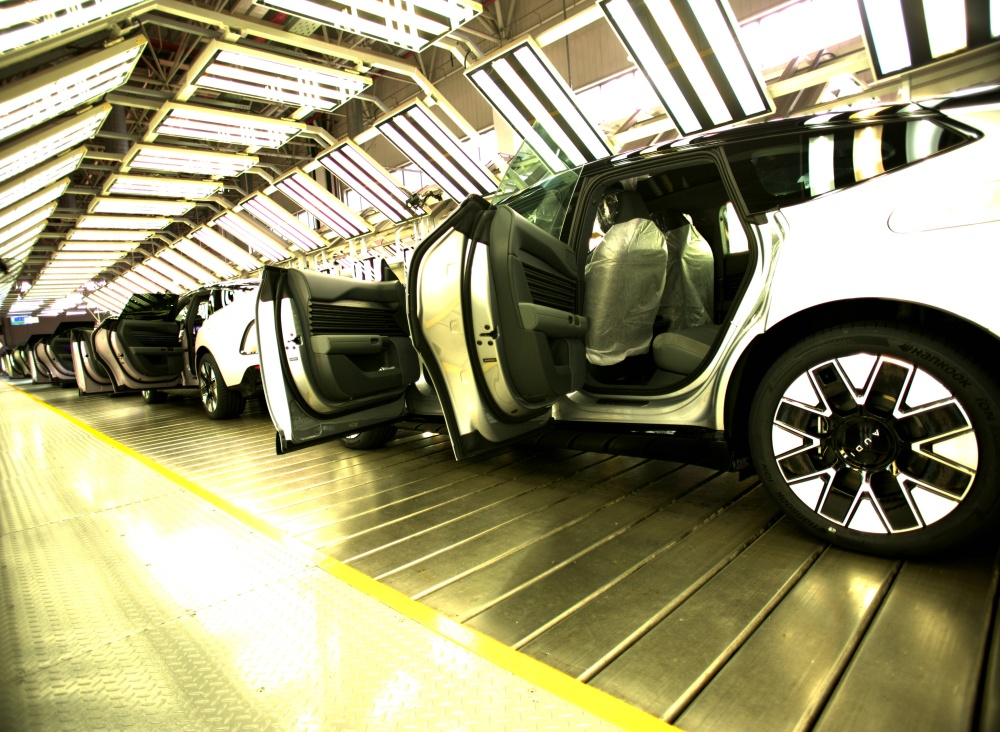armrest_color: (515, 301, 589, 338)
panel_color: (518, 259, 581, 313), (308, 298, 396, 333), (309, 335, 398, 354)
